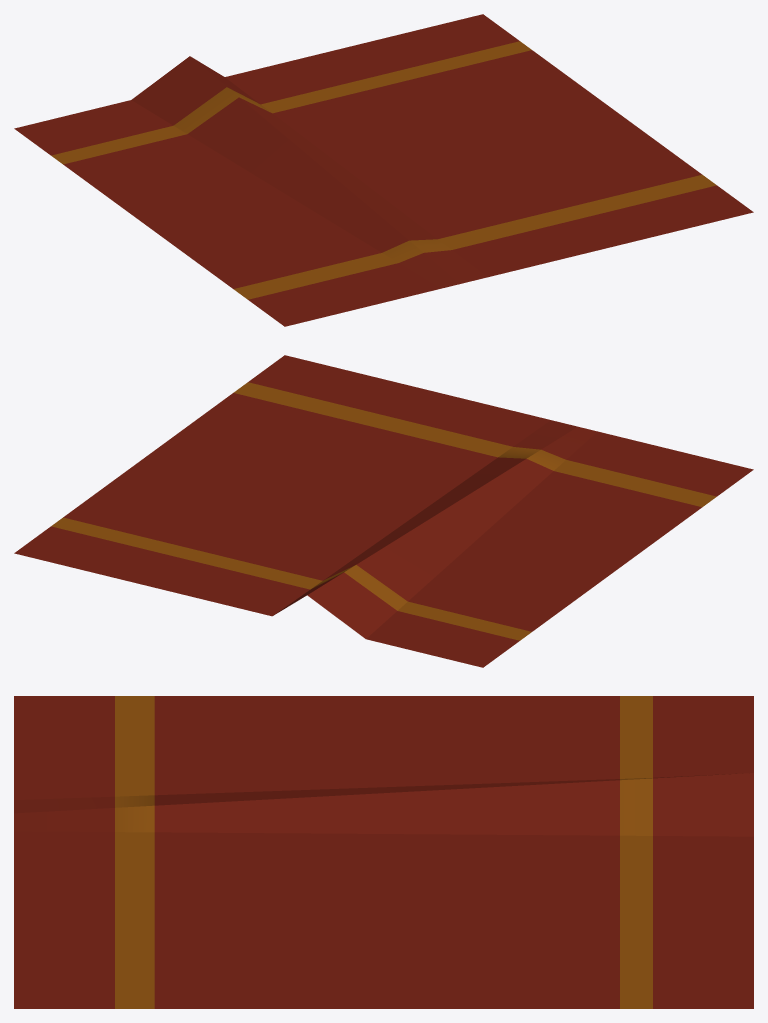
Rendered from Carpet_02.fbx.
3 views of the same model, one above another, from view 1: azimuth 30°, elevation 25°; view 2: azimuth 150°, elevation 25°; view 3: azimuth 270°, elevation 25° (orthographic). The views are drawn at different scales.
Parts seen in each view (by area): view 1: carpet_03; view 2: carpet_03; view 3: carpet_03.
Boxes of the visible parts, x1=… form: carpet_03: x1=14, y1=14, x2=753, y2=326; carpet_03: x1=14, y1=355, x2=753, y2=667; carpet_03: x1=14, y1=696, x2=753, y2=1008.
Bounding box in the file's own units: 3.84 × 0.2318 × 3.84.
